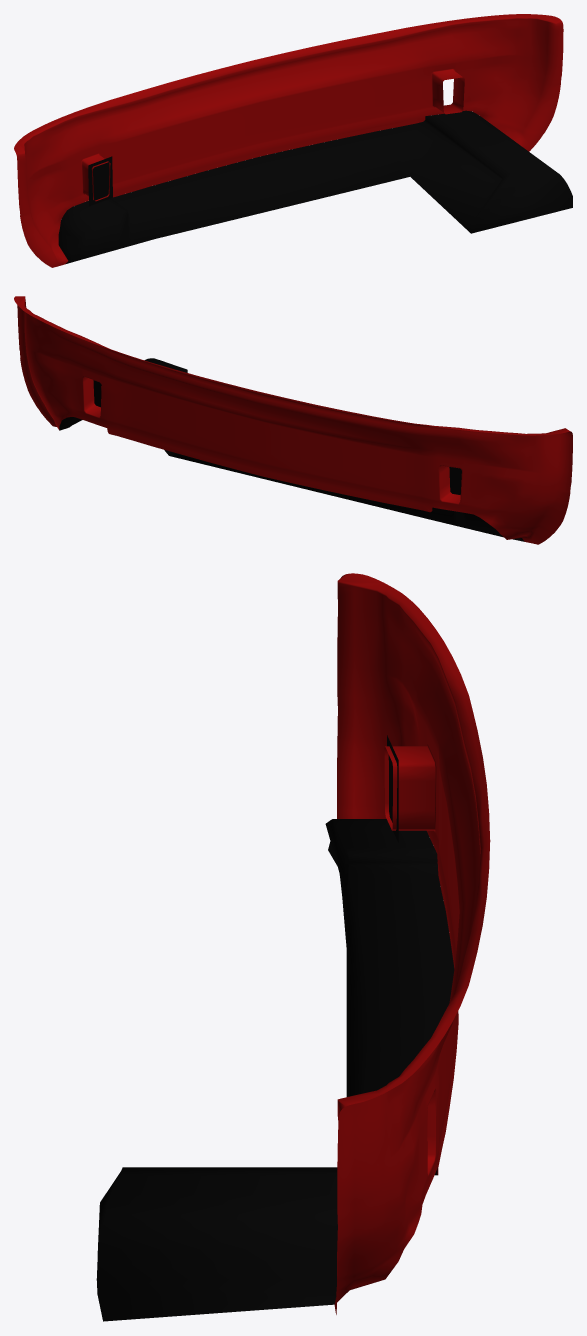
The model's file is rearbumper_none.glb.
3 views of the same model, one above another, from view 1: azimuth 30°, elevation 25°; view 2: azimuth 150°, elevation 25°; view 3: azimuth 270°, elevation 25° (orthographic). The views are drawn at different scales.
Parts seen in each view (by area): view 1: Bumper, Undercarriage; view 2: Bumper, Undercarriage; view 3: Undercarriage, Bumper.
Boxes of the visible parts, x1=… form: Bumper: x1=14, y1=14, x2=563, y2=267; Undercarriage: x1=58, y1=110, x2=572, y2=264; Bumper: x1=14, y1=296, x2=572, y2=544; Undercarriage: x1=59, y1=358, x2=524, y2=541; Undercarriage: x1=96, y1=735, x2=454, y2=1321; Bumper: x1=334, y1=573, x2=490, y2=1314.
Size of the model in its own units: 1.6 by 0.3721 by 0.4997.
